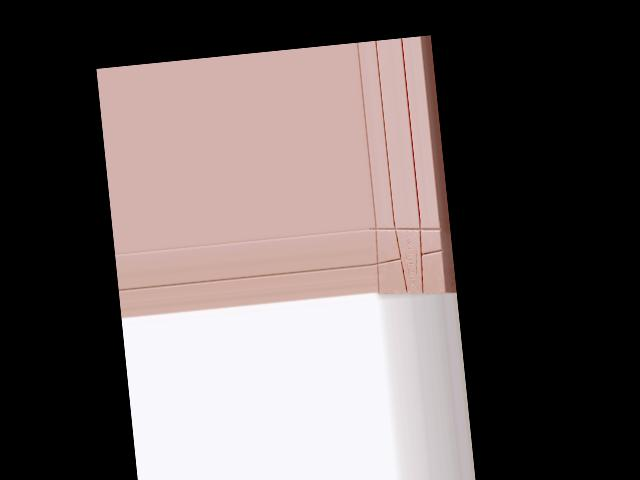chocolate: (368, 216, 450, 301)
